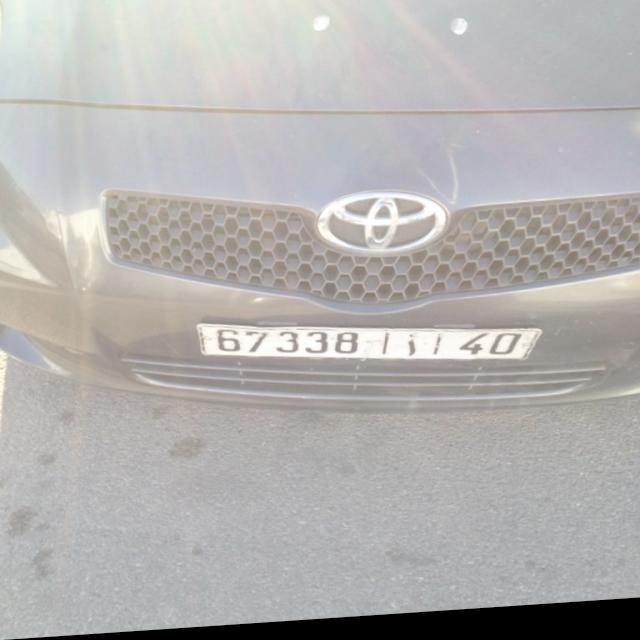License-Plate: (197, 327, 542, 366)
